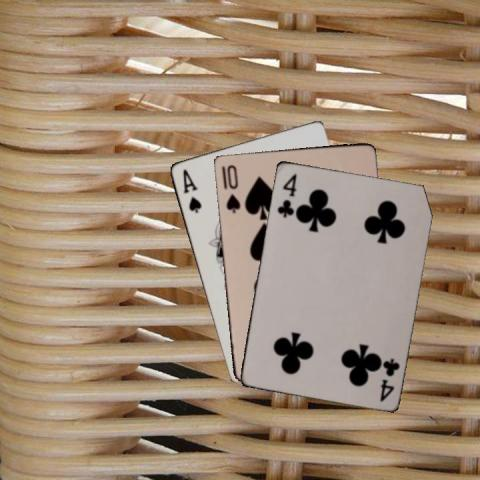10s: (223, 162, 241, 214)
4c: (274, 171, 298, 219), (376, 355, 400, 403)
As: (179, 166, 203, 214)
